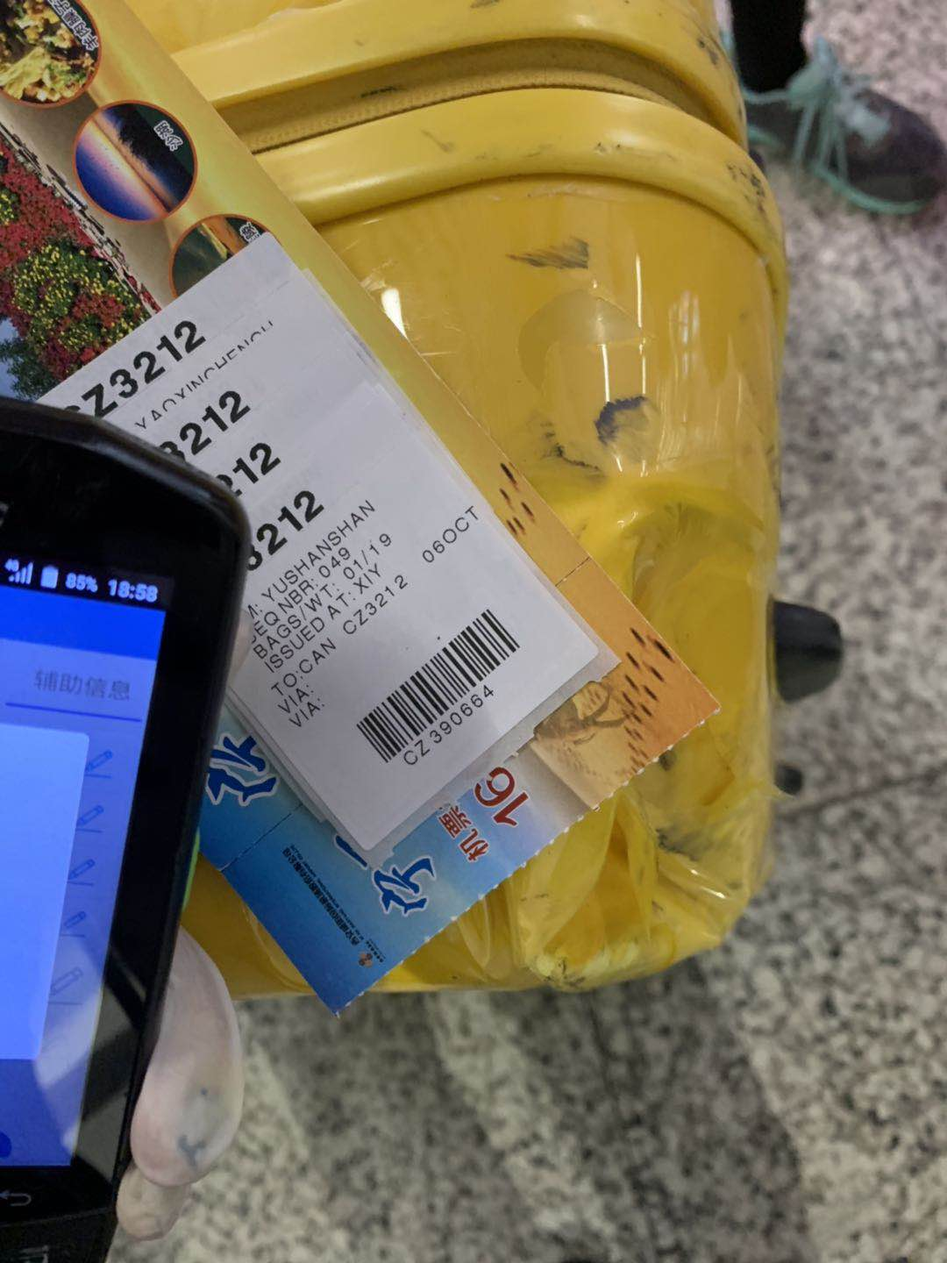rupture: (513, 480, 780, 983)
